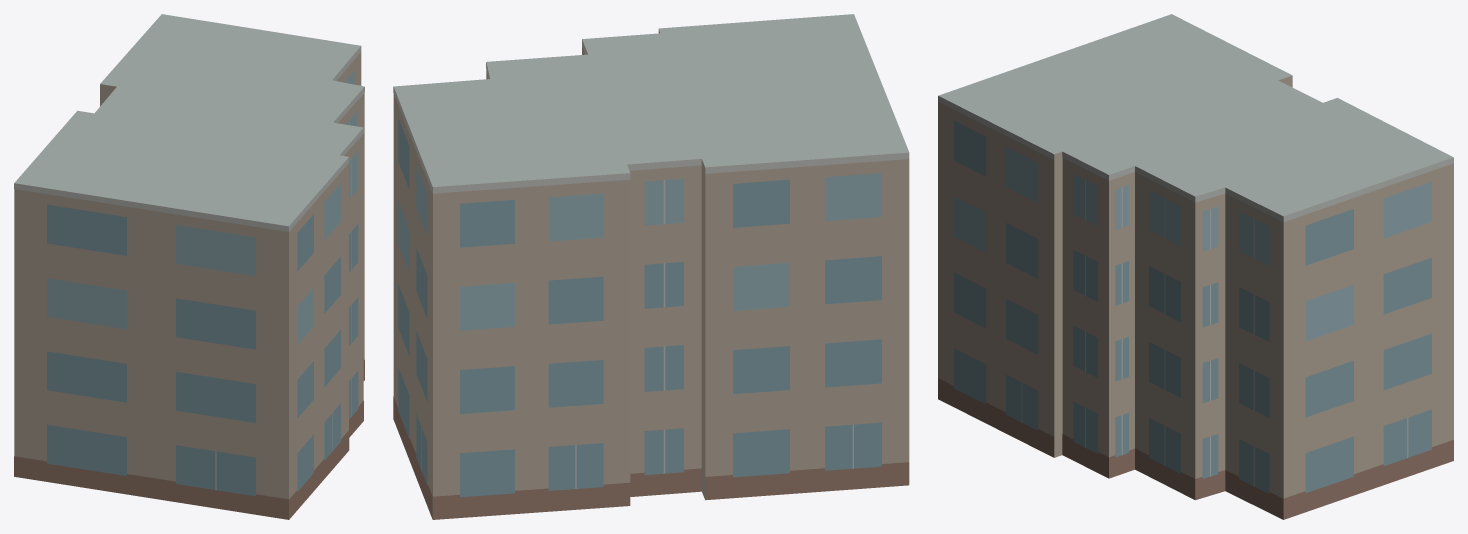
File: survey-upis-32913353.glb
3 renders of one model, left to right at view 1: azimuth 30°, elevation 25°; view 2: azimuth 150°, elevation 25°; view 3: azimuth 270°, elevation 25°, orthographic. The views are drawn at different scales.
Visible parts, largest first — view 1: survey-upis-32913353.tmp; view 2: survey-upis-32913353.tmp; view 3: survey-upis-32913353.tmp.
Boxes of the visible parts, bbox=[...] form: survey-upis-32913353.tmp: bbox=[14, 14, 364, 519]; survey-upis-32913353.tmp: bbox=[393, 14, 909, 519]; survey-upis-32913353.tmp: bbox=[938, 14, 1453, 519].
Bounding box in the file's own units: 17.9 × 12.51 × 19.27.
